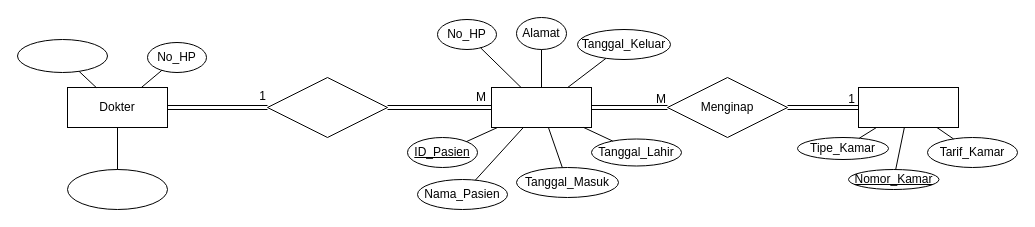
The diagram is 1035 pixels wide and 227 high, and some of its shapes have lost their labels. The shapes that lost their labels are listed below. From the top down, each one's centre as x and y in pixels, then its label:
the point at 62,55: Nama_Dokter
the point at 327,107: Merawat
the point at 541,107: Pasien
the point at 908,107: Kamar
the point at 117,189: ID_Dokter
